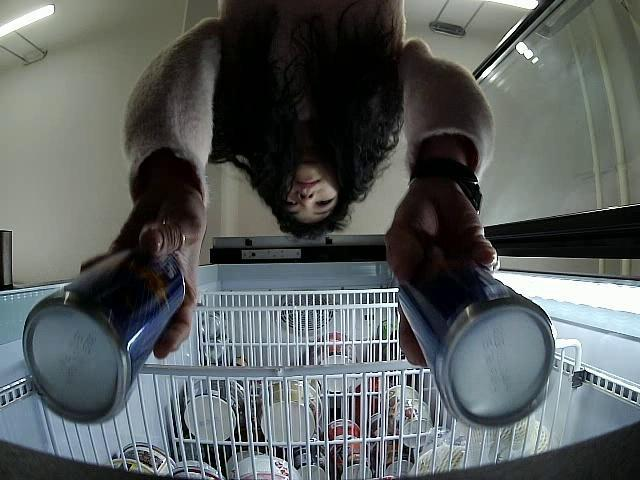16_hot6: (22, 244, 190, 422), (398, 258, 553, 428)
